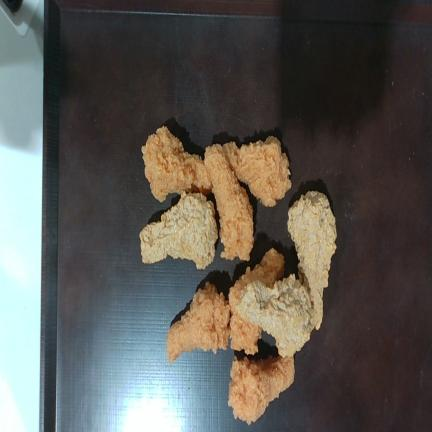chicken: (288, 191, 336, 329), (237, 274, 315, 356), (140, 193, 218, 269), (229, 249, 284, 354), (204, 144, 253, 260), (141, 126, 211, 201), (167, 282, 229, 362), (223, 136, 291, 206), (228, 356, 294, 424)
